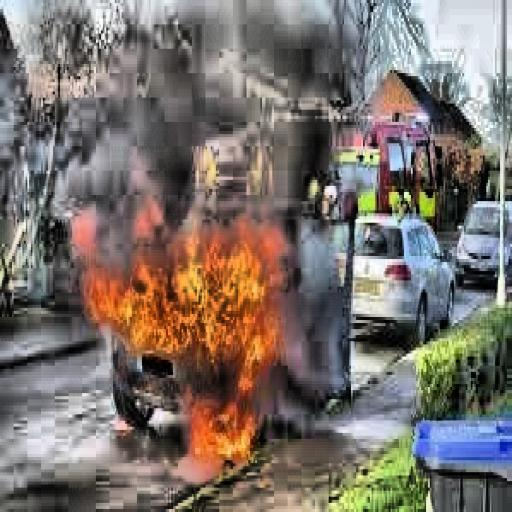fire: (67, 207, 289, 399)
